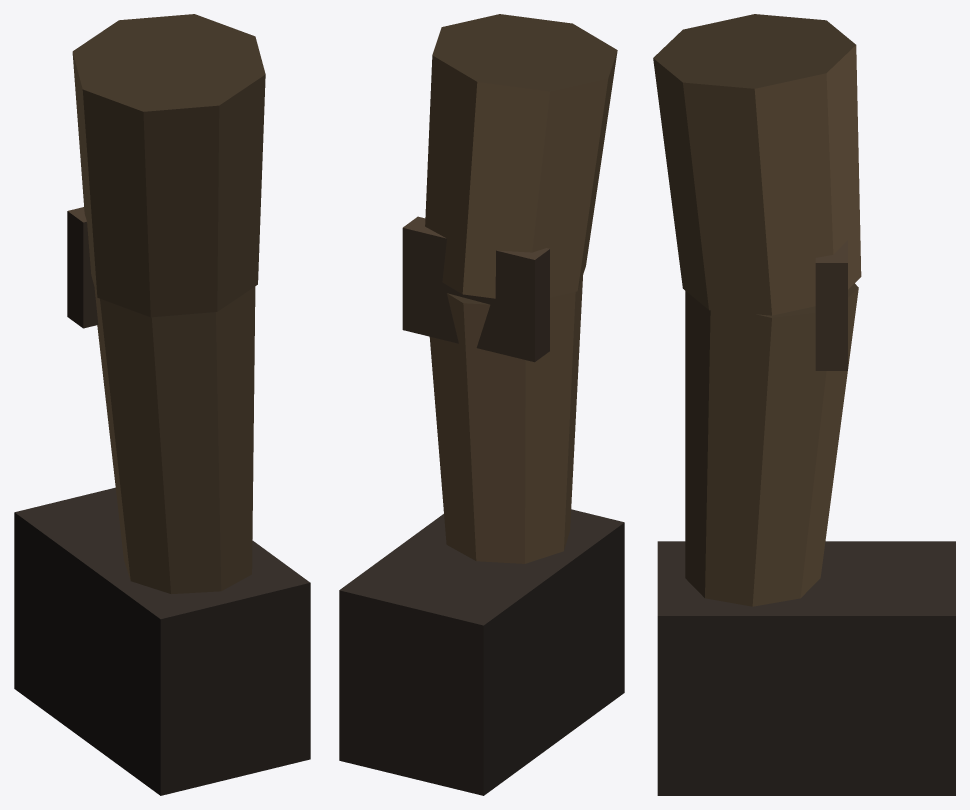
File: terrorist_right_leg.obj
The picture shows the model from 3 angles, left to right: view 1: azimuth 30°, elevation 25°; view 2: azimuth 150°, elevation 25°; view 3: azimuth 270°, elevation 25°; orthographic projection. The views are drawn at different scales.
Parts seen in each view (by area): view 1: terrorist_right_leg; view 2: terrorist_right_leg; view 3: terrorist_right_leg.
Part boxes in pixels (bbox=[...]): terrorist_right_leg: bbox=[14, 14, 310, 795]; terrorist_right_leg: bbox=[339, 14, 624, 795]; terrorist_right_leg: bbox=[653, 14, 955, 795].
Bounding box in the file's own units: 8.54 × 31.38 × 12.19.
1 material, 1 textured.
